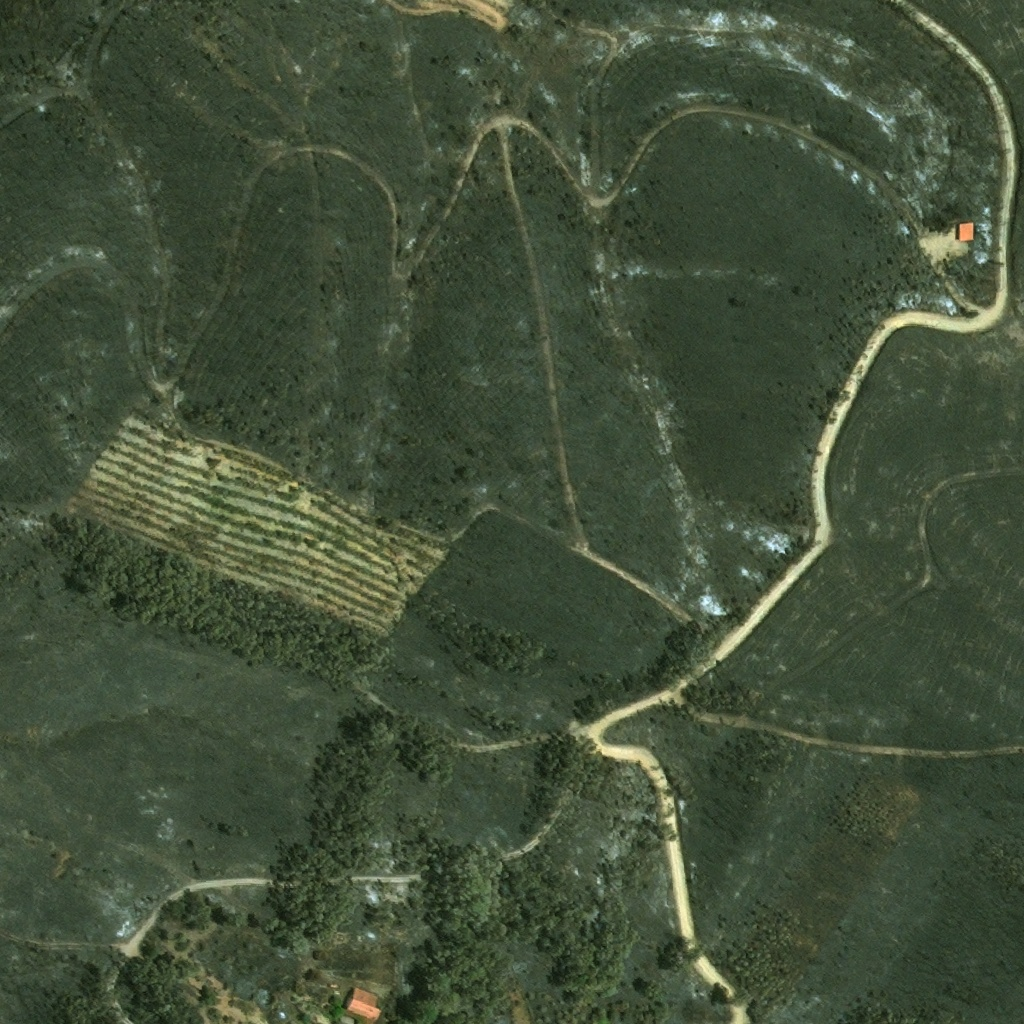0 no-damage: (346, 987, 383, 1022), (957, 223, 972, 244)
